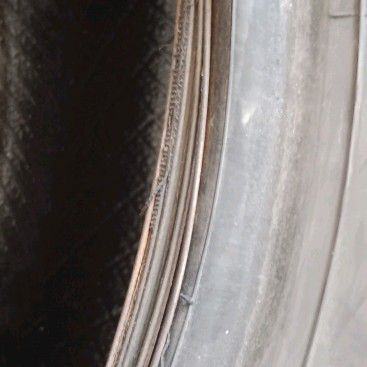bead_damage: (114, 0, 194, 335)
